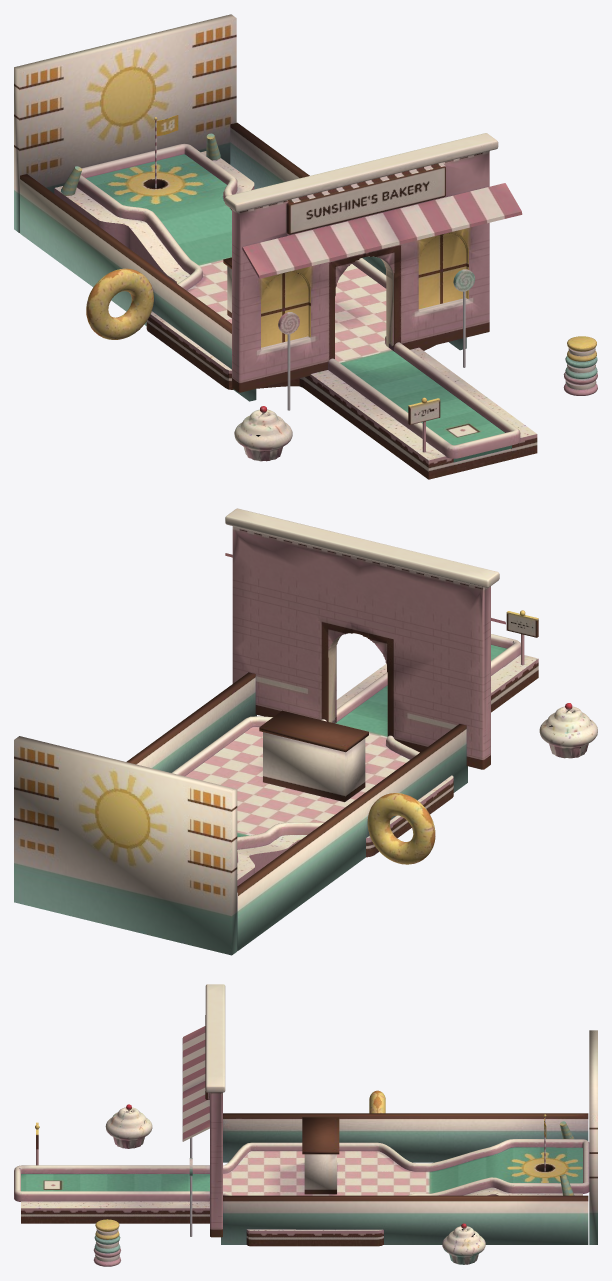
The model's file is hole18.glb.
3 views of the same model, one above another, from view 1: azimuth 30°, elevation 25°; view 2: azimuth 150°, elevation 25°; view 3: azimuth 270°, elevation 25° (orthographic). The views are drawn at different scales.
Visible parts, largest first — view 1: ShopWalls, Storefront, Green, Base, Awning, Rails, Decor5, Decor3, Decor4, HoleSign, Decor1, ConfettiCannons (+1 smaller); view 2: ShopWalls, Storefront, Green, Counter, Base, Rails, Decor5, Decor3, HoleSign; view 3: ShopWalls, Green, Rails, Base, Storefront, Counter, Awning, Decor3, Decor6, Decor4.
Boxes of the visible parts, <box> form: ShopWalls: <box>14,14,466,401</box>; Storefront: <box>224,133,498,392</box>; Green: <box>86,154,511,462</box>; Base: <box>54,151,537,479</box>; Awning: <box>242,183,522,278</box>; Rails: <box>77,143,520,458</box>; Decor5: <box>86,268,153,339</box>; Decor3: <box>234,406,292,461</box>; Decor4: <box>563,336,597,395</box>; HoleSign: <box>408,397,440,452</box>; Decor1: <box>278,312,299,410</box>; ConfettiCannons: <box>61,133,220,195</box>; ShopWalls: <box>14,672,467,955</box>; Storefront: <box>225,508,499,769</box>; Green: <box>185,645,506,837</box>; Counter: <box>259,710,368,801</box>; Base: <box>237,654,538,885</box>; Rails: <box>172,634,520,862</box>; Decor5: <box>367,793,435,864</box>; Decor3: <box>539,703,597,758</box>; HoleSign: <box>506,610,538,665</box>; ShopWalls: <box>221,1030,597,1244</box>; Green: <box>21,1147,582,1195</box>; Rails: <box>14,1139,589,1201</box>; Base: <box>21,1187,582,1246</box>; Storefront: <box>205,984,225,1237</box>; Counter: <box>302,1117,339,1194</box>; Awning: <box>182,1026,209,1141</box>; Decor3: <box>105,1104,152,1148</box>; Decor6: <box>442,1223,485,1264</box>; Decor4: <box>93,1219,120,1266</box>.
Size of what is drawn, in the model's own units: 5.94 by 3.43 by 10.81.
1 material, 1 textured.
